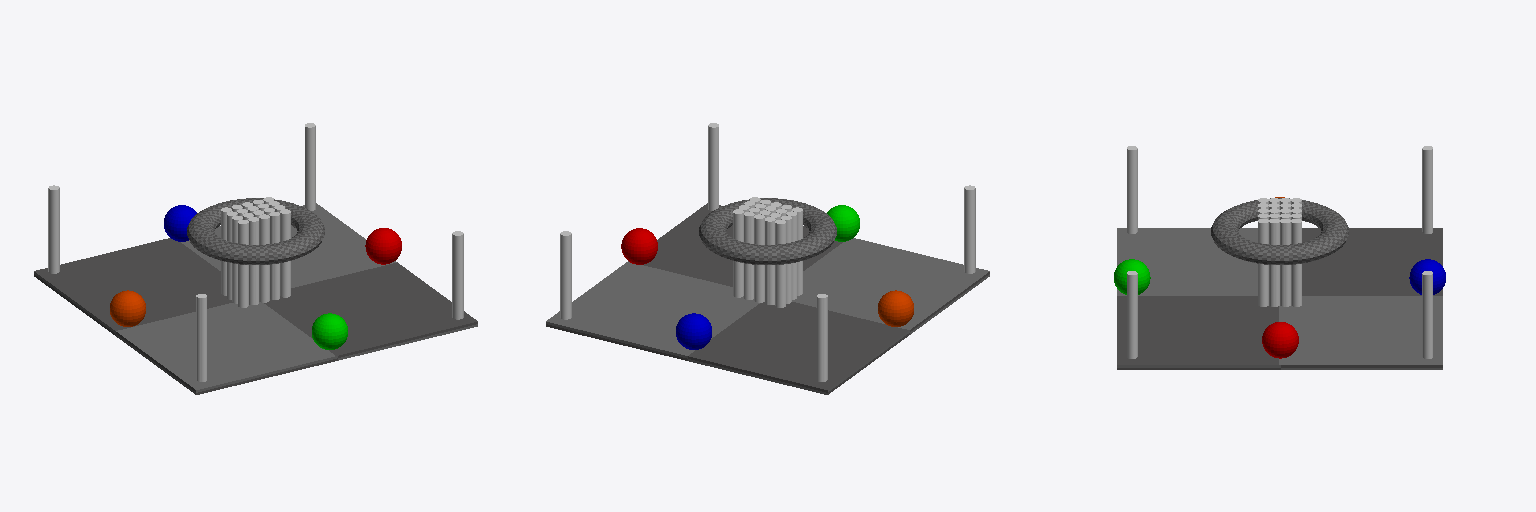
3 views of the same model, side by side, from view 1: azimuth 30°, elevation 25°; view 2: azimuth 150°, elevation 25°; view 3: azimuth 270°, elevation 25° (orthographic).
Parts seen in each view (by area): view 1: Cube_Cube.001, Cylinder.004, Torus, Sphere.001, Sphere.002, Sphere.003, Cylinder.003, Cylinder.001, Cylinder, Cylinder.002, Sphere; view 2: Cube_Cube.001, Cylinder.004, Torus, Sphere.002, Sphere, Sphere.003, Cylinder.002, Cylinder, Cylinder.001, Cylinder.003, Sphere.001; view 3: Cube_Cube.001, Torus, Cylinder.004, Sphere.002, Cylinder, Cylinder.001, Cylinder.002, Cylinder.003, Sphere, Sphere.001.
Boxes of the visible parts, x1=… form: Cube_Cube.001: x1=34, y1=203, x2=477, y2=394; Cylinder.004: x1=221, y1=197, x2=290, y2=307; Torus: x1=187, y1=198, x2=324, y2=264; Sphere.001: x1=312, y1=313, x2=347, y2=349; Sphere.002: x1=365, y1=228, x2=401, y2=264; Sphere.003: x1=110, y1=290, x2=145, y2=326; Cylinder.003: x1=452, y1=231, x2=463, y2=319; Cylinder.001: x1=48, y1=185, x2=59, y2=273; Cylinder: x1=196, y1=294, x2=206, y2=381; Cylinder.002: x1=305, y1=123, x2=315, y2=210; Sphere: x1=164, y1=205, x2=196, y2=241; Cube_Cube.001: x1=546, y1=203, x2=989, y2=394; Cylinder.004: x1=733, y1=197, x2=802, y2=307; Torus: x1=699, y1=198, x2=836, y2=264; Sphere.002: x1=621, y1=228, x2=657, y2=264; Sphere: x1=676, y1=313, x2=711, y2=349; Sphere.003: x1=878, y1=290, x2=913, y2=326; Cylinder.002: x1=560, y1=231, x2=571, y2=319; Cylinder: x1=964, y1=185, x2=975, y2=273; Cylinder.001: x1=817, y1=294, x2=827, y2=381; Cylinder.003: x1=708, y1=123, x2=718, y2=210; Sphere.001: x1=827, y1=205, x2=859, y2=241; Cube_Cube.001: x1=1117, y1=228, x2=1442, y2=369; Torus: x1=1211, y1=198, x2=1348, y2=264; Cylinder.004: x1=1258, y1=198, x2=1301, y2=306; Sphere.002: x1=1262, y1=322, x2=1298, y2=358; Cylinder: x1=1127, y1=146, x2=1137, y2=233; Cylinder.001: x1=1422, y1=146, x2=1432, y2=233; Cylinder.002: x1=1422, y1=271, x2=1432, y2=358; Cylinder.003: x1=1127, y1=271, x2=1137, y2=358; Sphere: x1=1409, y1=259, x2=1445, y2=294; Sphere.001: x1=1114, y1=259, x2=1150, y2=294.
Bounding box in the file's own units: 18 × 5.41 × 18.
Materials: 7 (1 with a texture image).